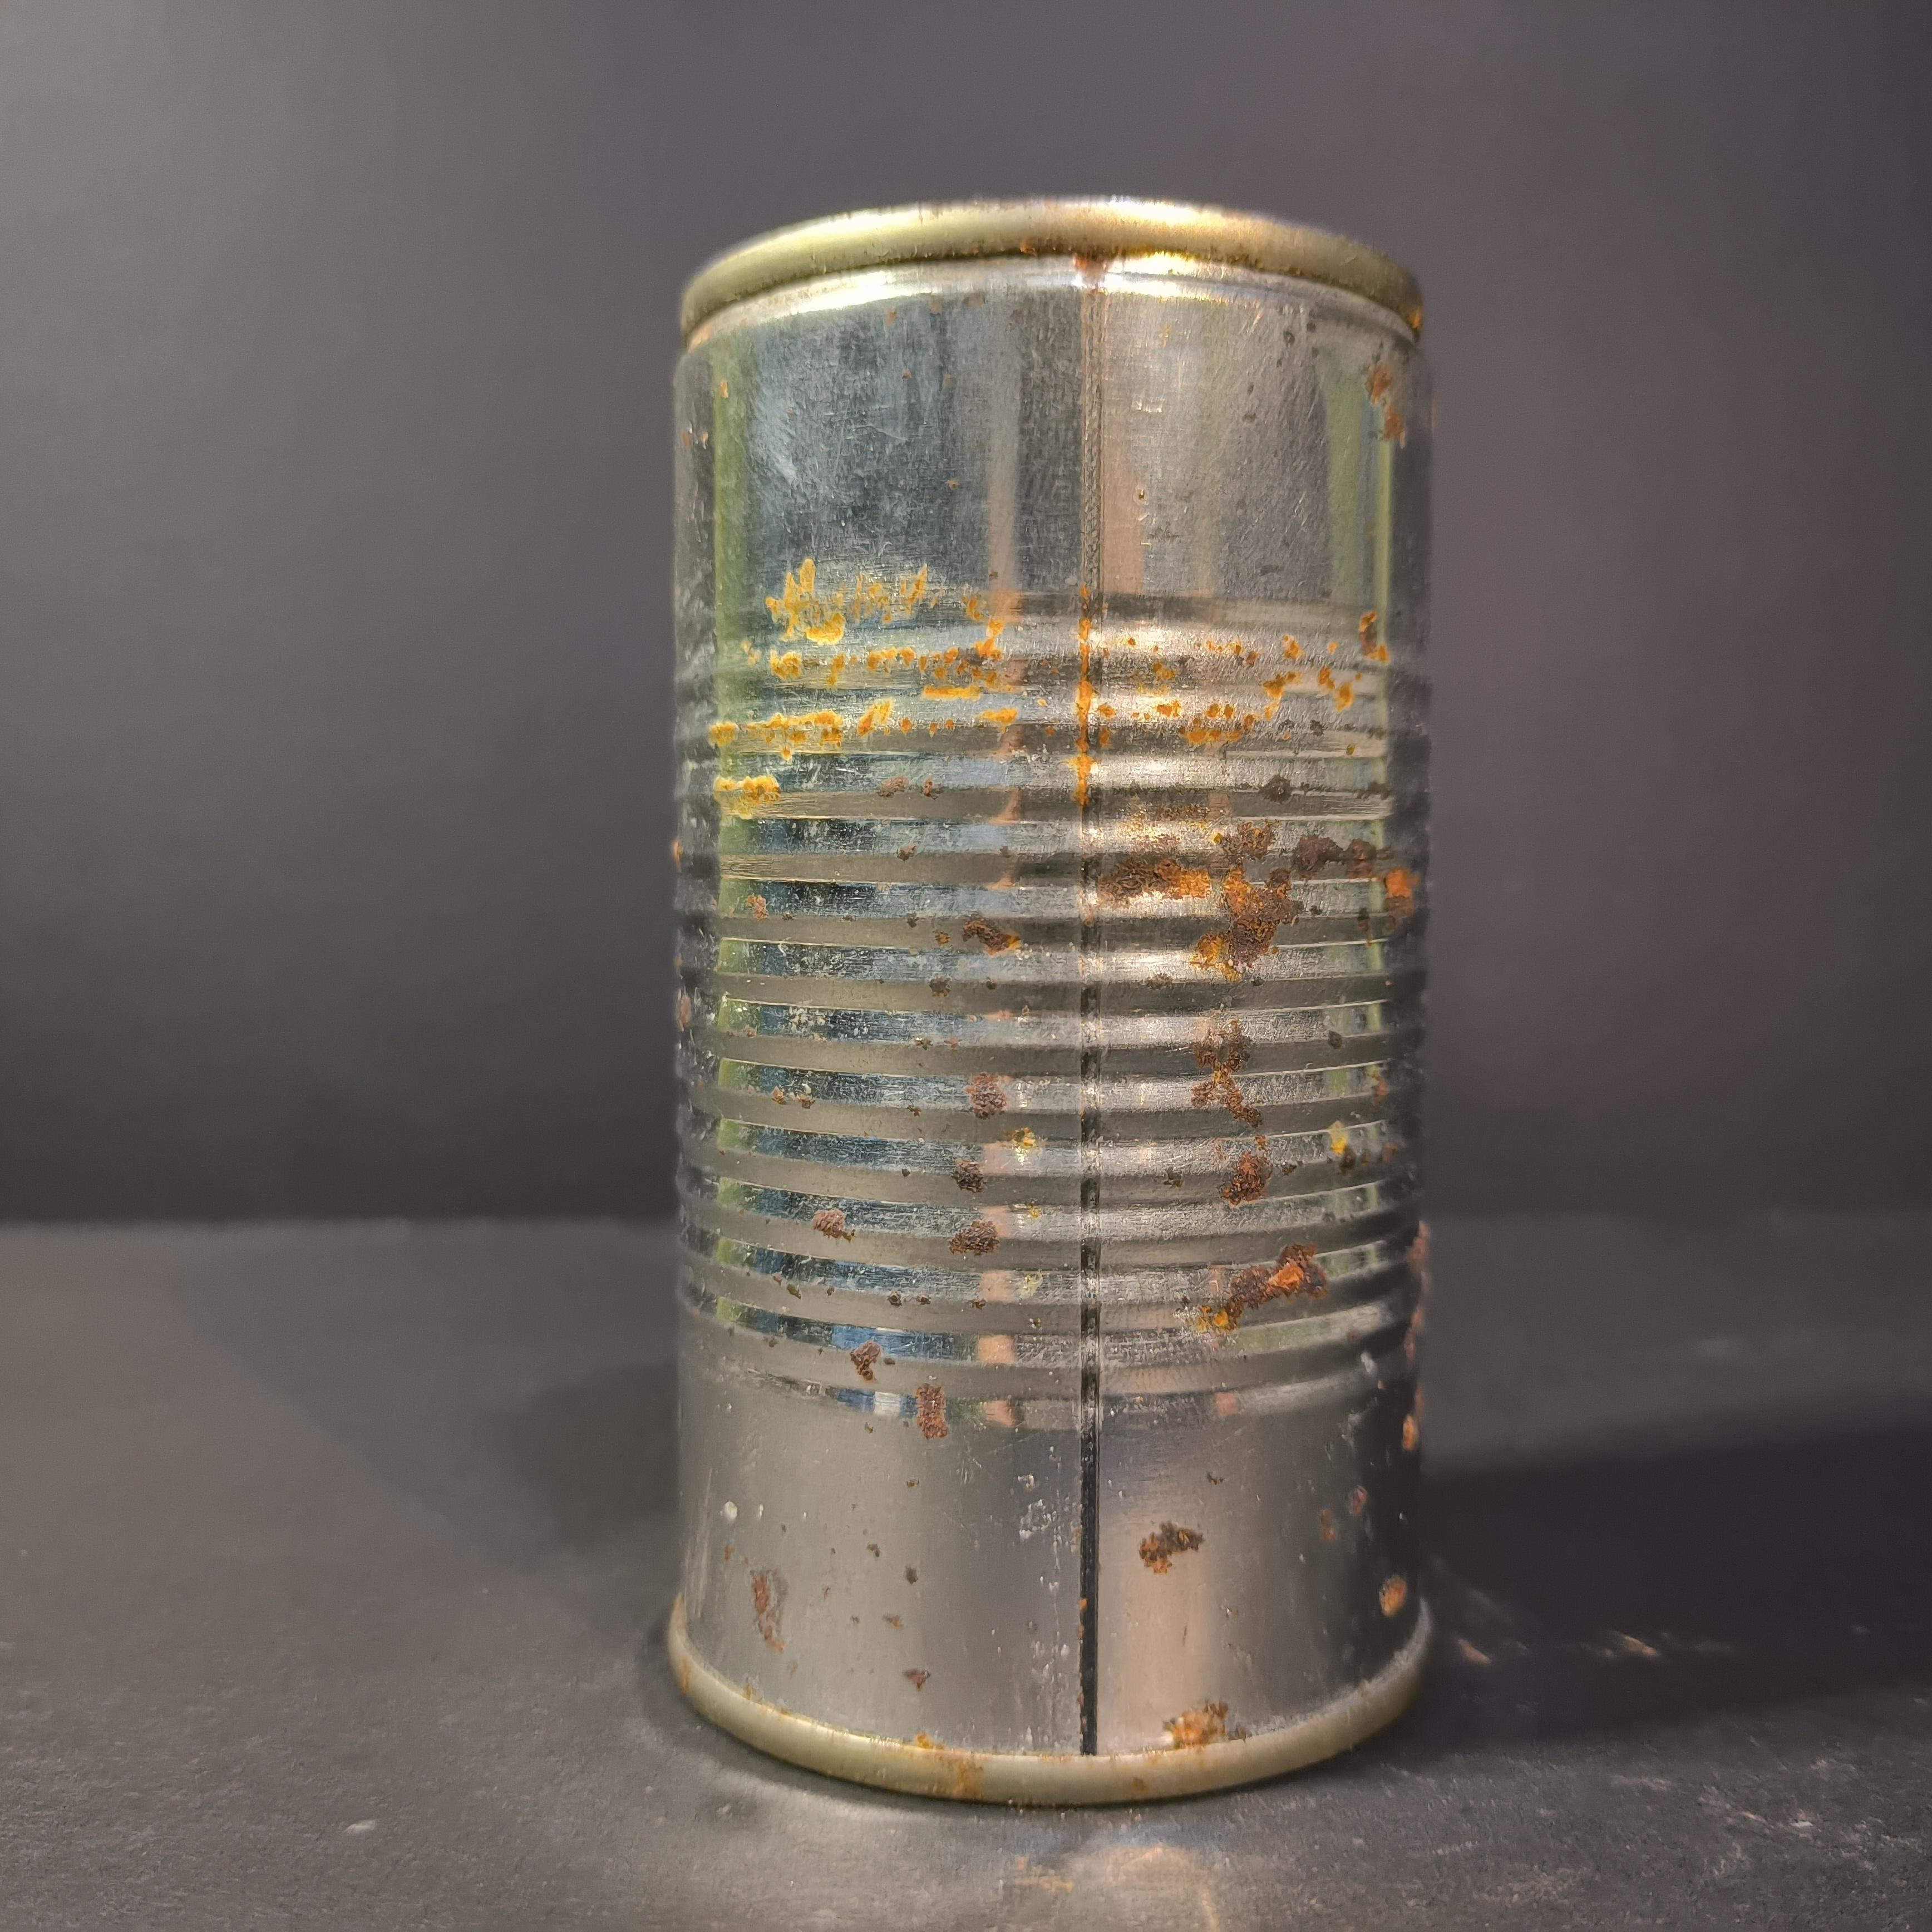Rusted: (651, 156, 1461, 1833)
